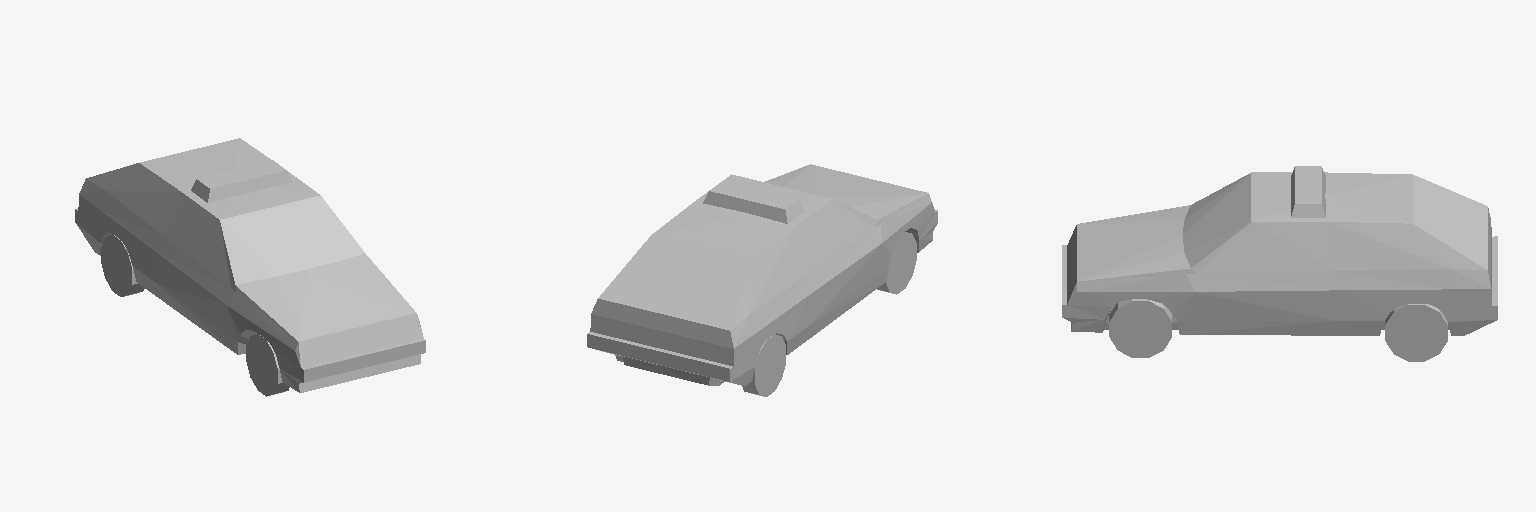
File: milicija.obj
The picture shows the model from 3 angles: view 1: azimuth 30°, elevation 25°; view 2: azimuth 150°, elevation 25°; view 3: azimuth 270°, elevation 25°; orthographic projection.
Parts seen in each view (by area): view 1: vaz2109; view 2: vaz2109; view 3: vaz2109.
Boxes of the visible parts, x1=… form: vaz2109: x1=75, y1=138, x2=425, y2=396; vaz2109: x1=587, y1=164, x2=937, y2=396; vaz2109: x1=1062, y1=166, x2=1497, y2=361.
Size of the model in its own units: 1.53 by 1.45 by 4.04.